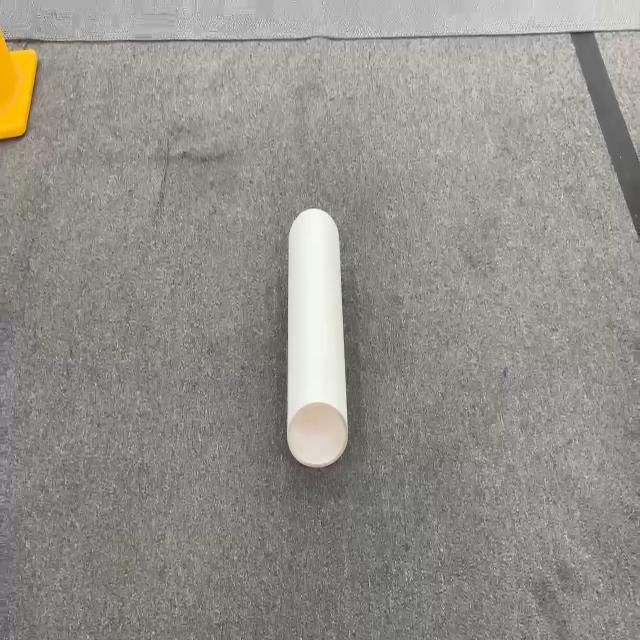coral: (285, 206, 349, 468)
